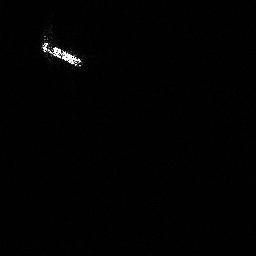ship: (41, 34, 84, 69)
